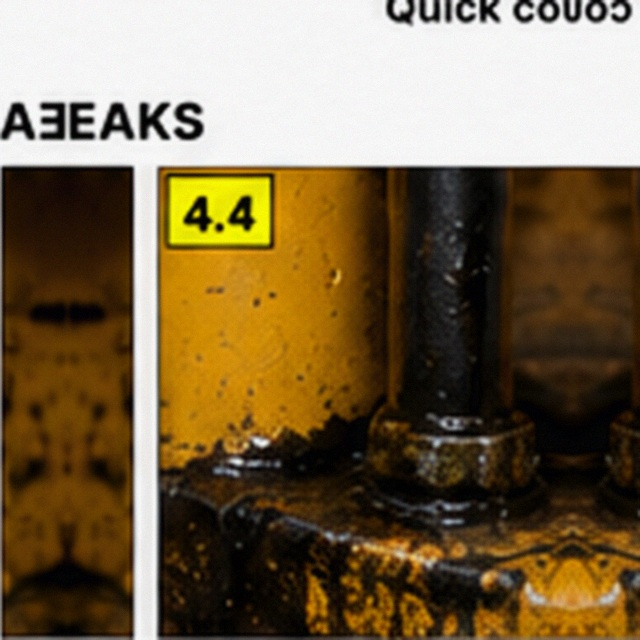hydraulic_oil_leak: (164, 199, 434, 498)
